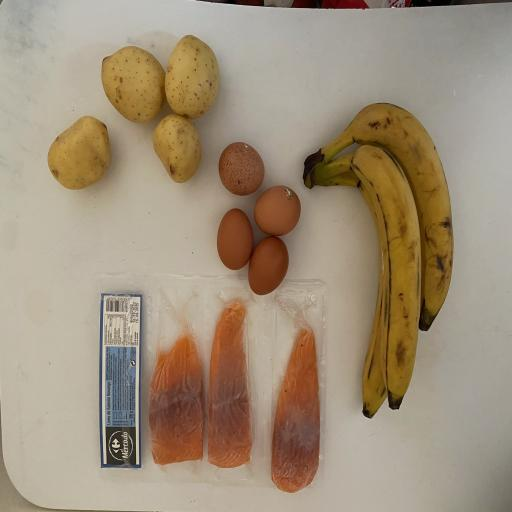banana: (306, 94, 456, 337), (311, 142, 424, 421), (310, 170, 390, 422)
egg: (216, 138, 266, 200), (247, 232, 291, 298), (252, 182, 302, 238), (214, 204, 254, 274)
potato: (98, 42, 167, 126), (42, 112, 114, 192), (164, 33, 220, 119), (152, 109, 202, 185)
salmon: (202, 295, 255, 475), (268, 326, 323, 495), (148, 326, 207, 470)
